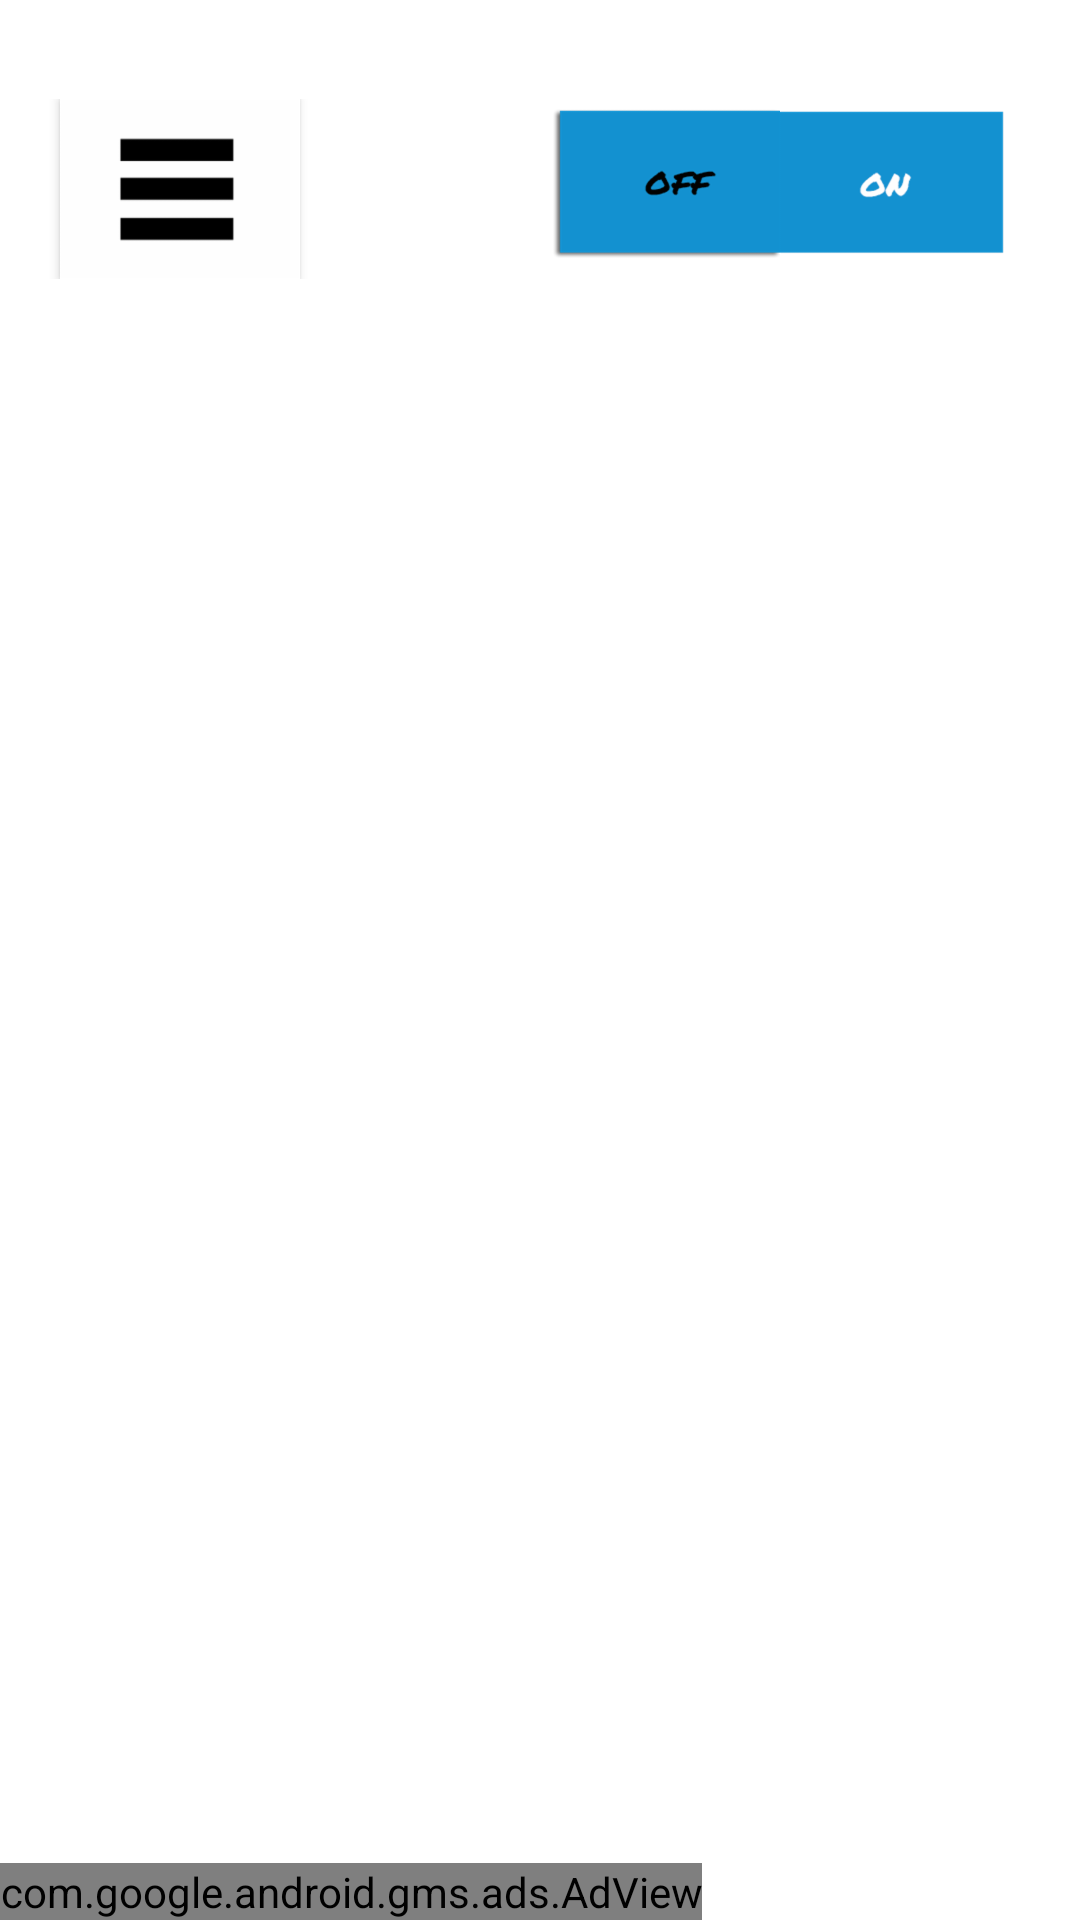

Icon bounding boxes for this 1080×1920 phone screenshot, format rect(x1, y1, x2, y2):
hamburger: rect(120, 138, 234, 241)
